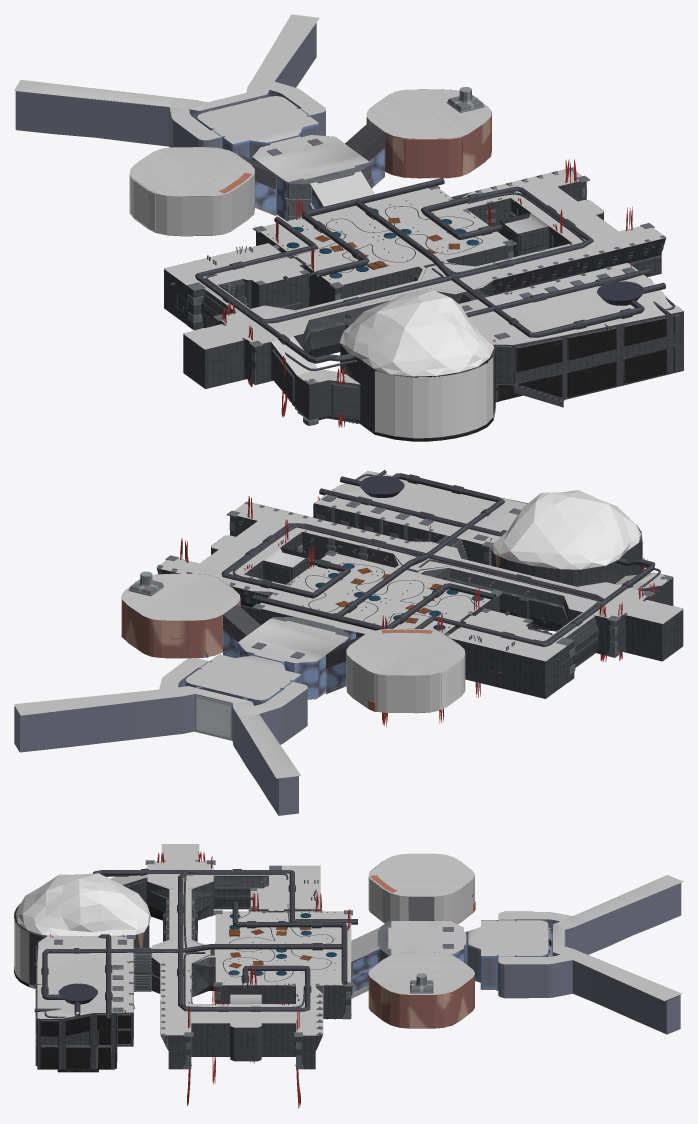
File: Finally(10.03).fbx
3 renders of one model, top to bottom at view 1: azimuth 30°, elevation 25°; view 2: azimuth 150°, elevation 25°; view 3: azimuth 270°, elevation 25°, orthographic. The views are drawn at different scales.
Parts seen in each view (by area): view 1: Up, Pipes, GeneratorBase, DocksBase, Up.002, TarelkaOkno, HallsBase, BetweenBase, KitchenBase, ArhivBaseBase, ServerBase, SleepBase (+7 smaller); view 2: Up, DocksBase, Pipes, Up.002, HallsBase, ServerBase, KitchenBase, BetweenBase, SleepBase, SkladMiniBase, Metall, TarelkaBase (+7 smaller); view 3: Up, DocksBase, Pipes, Up.002, GeneratorBase, ArhivBaseBase, KitchenBase, HallsBase, SleepBase, Metall, BetweenBase, SkladBase (+7 smaller).
Part boxes in pixels (<box>): Up: <box>14,14,682,384</box>; Pipes: <box>170,178,674,370</box>; GeneratorBase: <box>464,262,683,407</box>; DocksBase: <box>15,23,325,159</box>; Up.002: <box>339,290,494,376</box>; TarelkaOkno: <box>375,357,493,438</box>; HallsBase: <box>271,244,590,423</box>; BetweenBase: <box>237,121,385,220</box>; KitchenBase: <box>366,89,491,178</box>; ArhivBaseBase: <box>451,169,665,277</box>; ServerBase: <box>164,243,309,330</box>; SleepBase: <box>129,147,254,236</box>; Up: <box>14,471,683,778</box>; DocksBase: <box>14,654,307,815</box>; Pipes: <box>221,470,660,661</box>; Up.002: <box>490,490,641,569</box>; HallsBase: <box>302,519,673,631</box>; ServerBase: <box>451,610,598,698</box>; KitchenBase: <box>121,573,240,658</box>; BetweenBase: <box>222,604,362,699</box>; SleepBase: <box>346,628,465,713</box>; SkladMiniBase: <box>562,582,683,661</box>; Metall: <box>156,494,672,682</box>; TarelkaBase: <box>491,524,642,630</box>; Up: <box>37,844,683,1035</box>; DocksBase: <box>464,883,681,1034</box>; Pipes: <box>34,869,357,1037</box>; Up.002: <box>15,873,150,936</box>; GeneratorBase: <box>35,936,133,1072</box>; ArhivBaseBase: <box>160,985,322,1069</box>; KitchenBase: <box>368,952,474,1028</box>; HallsBase: <box>122,877,215,1003</box>; SleepBase: <box>368,854,474,923</box>; Metall: <box>54,860,453,1069</box>; BetweenBase: <box>351,896,464,998</box>; SkladBase: <box>215,962,352,1018</box>.
Size of the model in its own units: 2895 by 843 by 4260.
